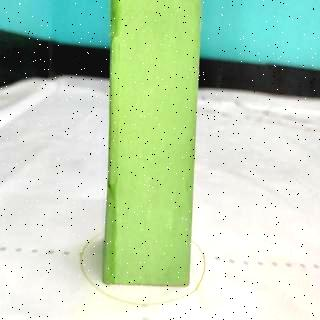greenbox: (105, 0, 203, 286)
